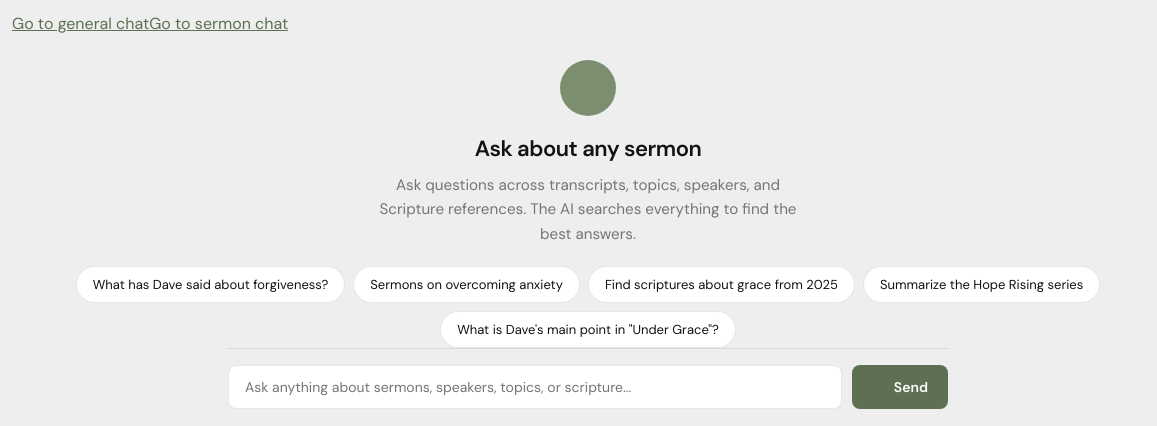
Scenario: renders the answer, the "AI generated" label and each cited source
The image size is (1157, 426).
Type "What is grace?" into the field with placeholder "Ask anything about sermons, speakers, topics, or scripture...".
click(535, 387); type("What is grace?")  # box [228, 365, 842, 409]
Then press Enter
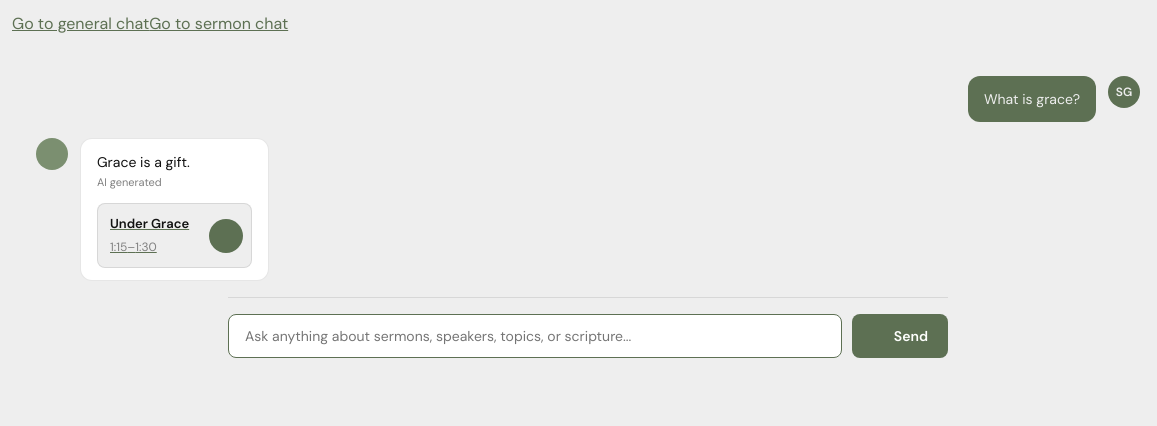
Check: the text "Grace is a gift." is shown, box [97, 153, 190, 171]
Check: the text "AI generated" is shown, box [97, 175, 162, 189]
Check: the text "1:15–1:30" is shown, box [110, 239, 157, 255]
